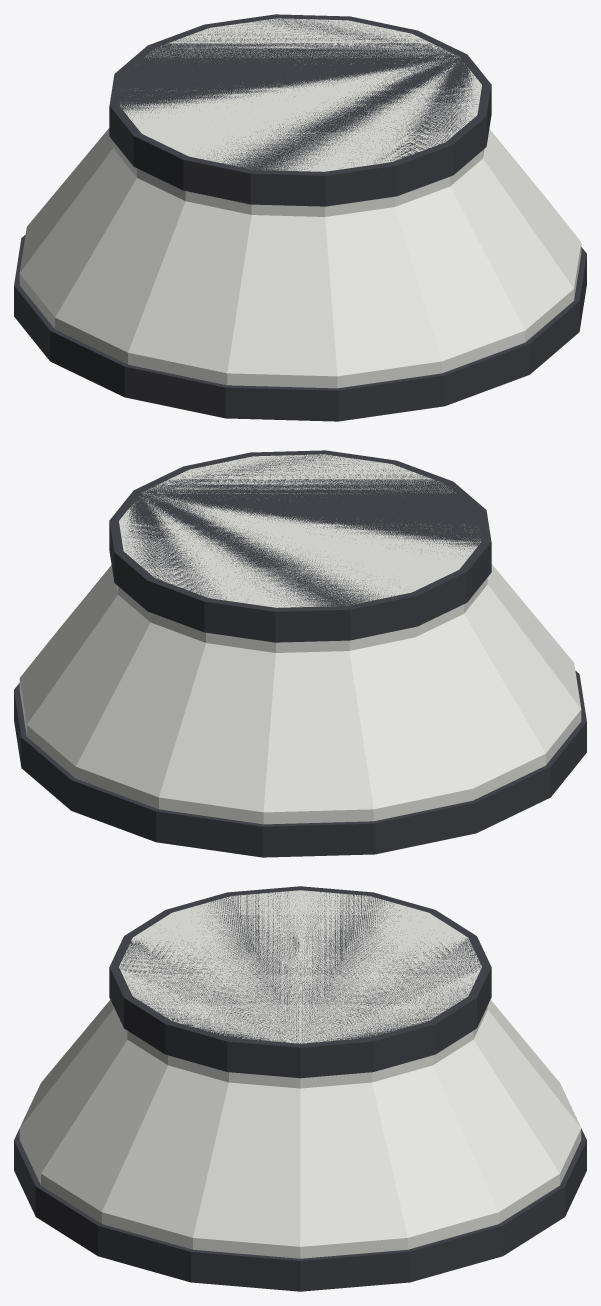
File: Adp_L_M.fbx
3 renders of one model, top to bottom at view 1: azimuth 30°, elevation 25°; view 2: azimuth 150°, elevation 25°; view 3: azimuth 270°, elevation 25°, orthographic.
Parts seen in each view (by area): view 1: Adp_L_M; view 2: Adp_L_M; view 3: Adp_L_M.
Boxes of the visible parts, x1,y1,x2,y2 form: Adp_L_M: (14,14,586,421); Adp_L_M: (14,450,586,857); Adp_L_M: (14,886,586,1291).
Bounding box in the file's own units: 3.06 × 1.2 × 3.06.
Materials: 1 (1 with a texture image).
